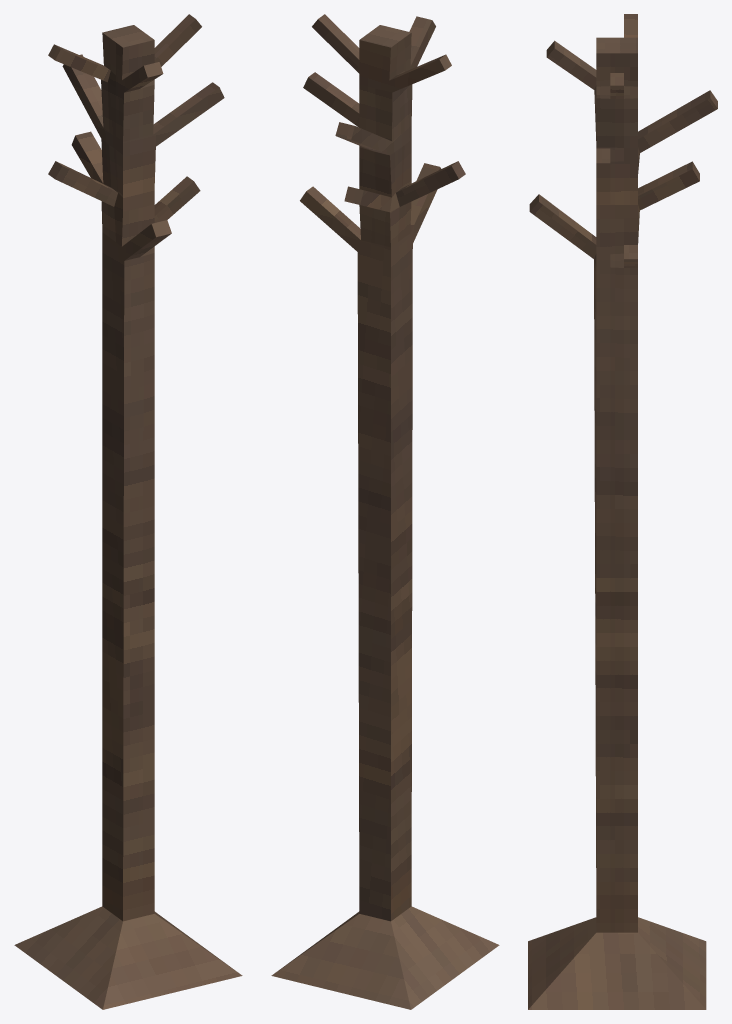
The model's file is Coatrack.fbx.
3 renders of one model, left to right at view 1: azimuth 30°, elevation 25°; view 2: azimuth 150°, elevation 25°; view 3: azimuth 270°, elevation 25°, orthographic.
Visible parts, largest first — view 1: Cube; view 2: Cube; view 3: Cube.
Part boxes in pixels (x1=…): Cube: x1=14, y1=14, x2=242, y2=1009; Cube: x1=271, y1=14, x2=499, y2=1009; Cube: x1=528, y1=14, x2=717, y2=1009.
Size of the model in its own units: 145 by 790 by 146.
1 material, 1 textured.
